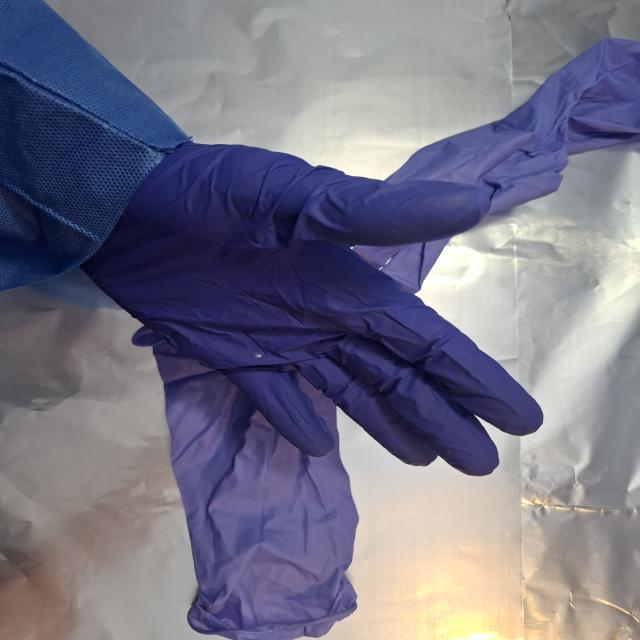glove_on: (74, 137, 546, 478)
